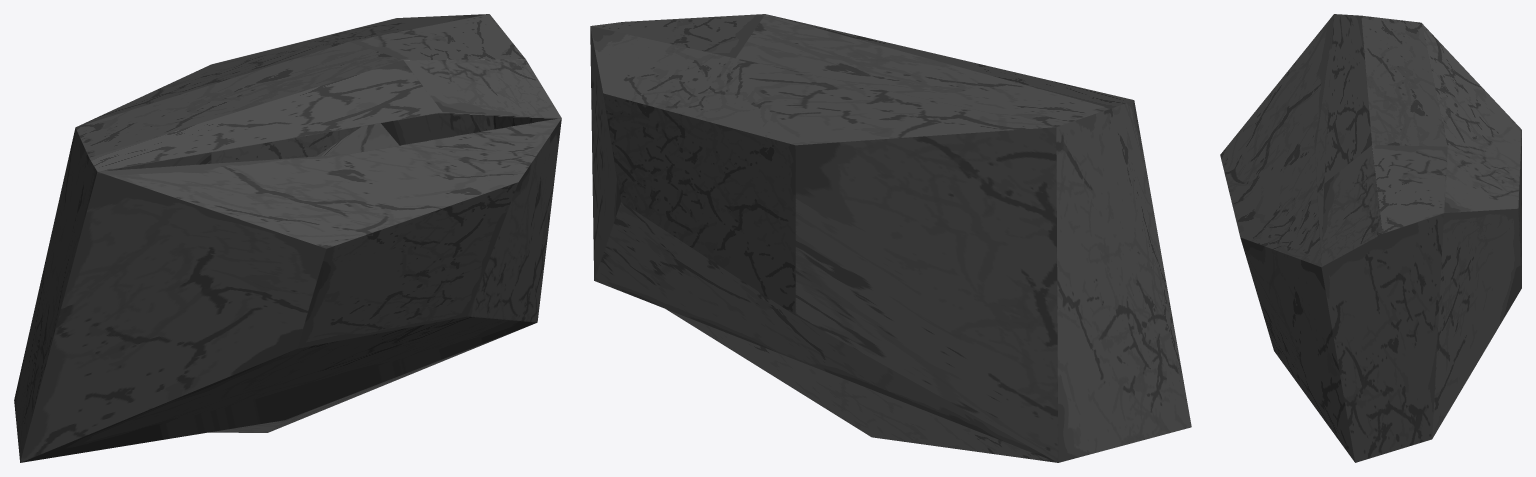
Rendered from rock3.fbx.
The picture shows the model from 3 angles, left to right: view 1: azimuth 30°, elevation 25°; view 2: azimuth 150°, elevation 25°; view 3: azimuth 270°, elevation 25°; orthographic projection. The views are drawn at different scales.
Parts seen in each view (by area): view 1: Cube; view 2: Cube; view 3: Cube.
Part boxes in pixels (box(x1,y1,x2,y2)): Cube: box(14, 14, 561, 462); Cube: box(590, 14, 1191, 462); Cube: box(1220, 14, 1521, 462).
Size of the model in its own units: 29357 by 19137 by 15999.
Materials: 1 (1 with a texture image).
